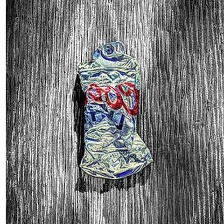can: (66, 37, 156, 186)
